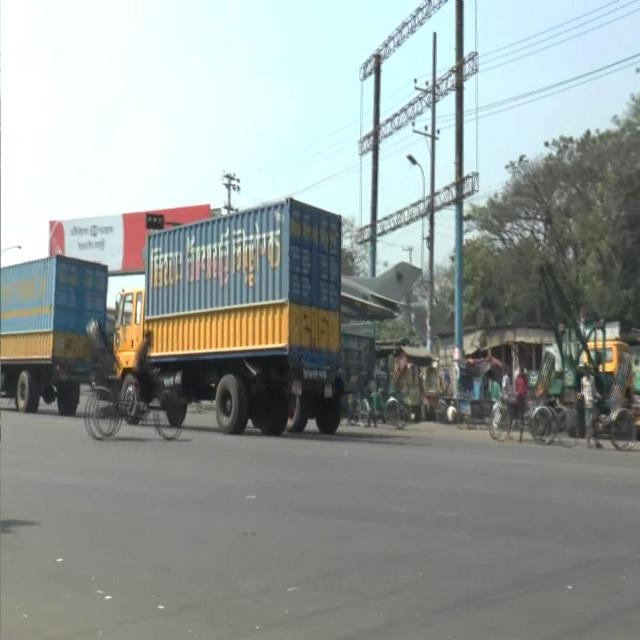truck: (115, 164, 348, 449), (0, 233, 112, 418)
